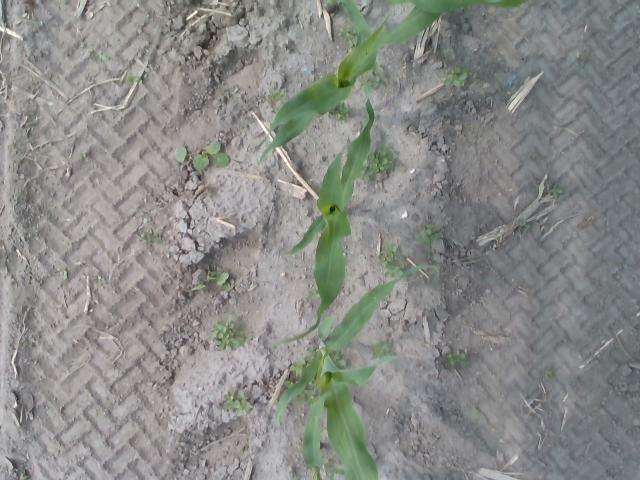Maize: (274, 263, 438, 480), (274, 99, 374, 344), (256, 14, 391, 166), (323, 0, 528, 40), (300, 379, 346, 480)
Weeds: (211, 314, 253, 350), (175, 144, 231, 170), (192, 266, 230, 292), (369, 143, 396, 174), (443, 68, 468, 87), (236, 388, 252, 416), (384, 262, 404, 278), (446, 352, 466, 368), (140, 231, 164, 244), (370, 342, 387, 359), (416, 235, 440, 247), (224, 392, 238, 410), (381, 244, 399, 258), (342, 29, 356, 46), (267, 88, 286, 100), (336, 104, 351, 119), (547, 183, 562, 198), (423, 224, 440, 234), (368, 74, 380, 87), (516, 224, 530, 234), (361, 168, 373, 179), (374, 62, 384, 74), (579, 54, 589, 66), (290, 366, 302, 375), (98, 52, 110, 61), (80, 152, 90, 161), (380, 258, 388, 268), (308, 290, 318, 298), (332, 352, 340, 361), (128, 76, 140, 82), (61, 270, 68, 279), (532, 182, 538, 192), (545, 371, 553, 378), (471, 408, 479, 415), (302, 357, 310, 364), (338, 360, 347, 366), (161, 253, 171, 258), (144, 218, 152, 223), (532, 155, 536, 159)
